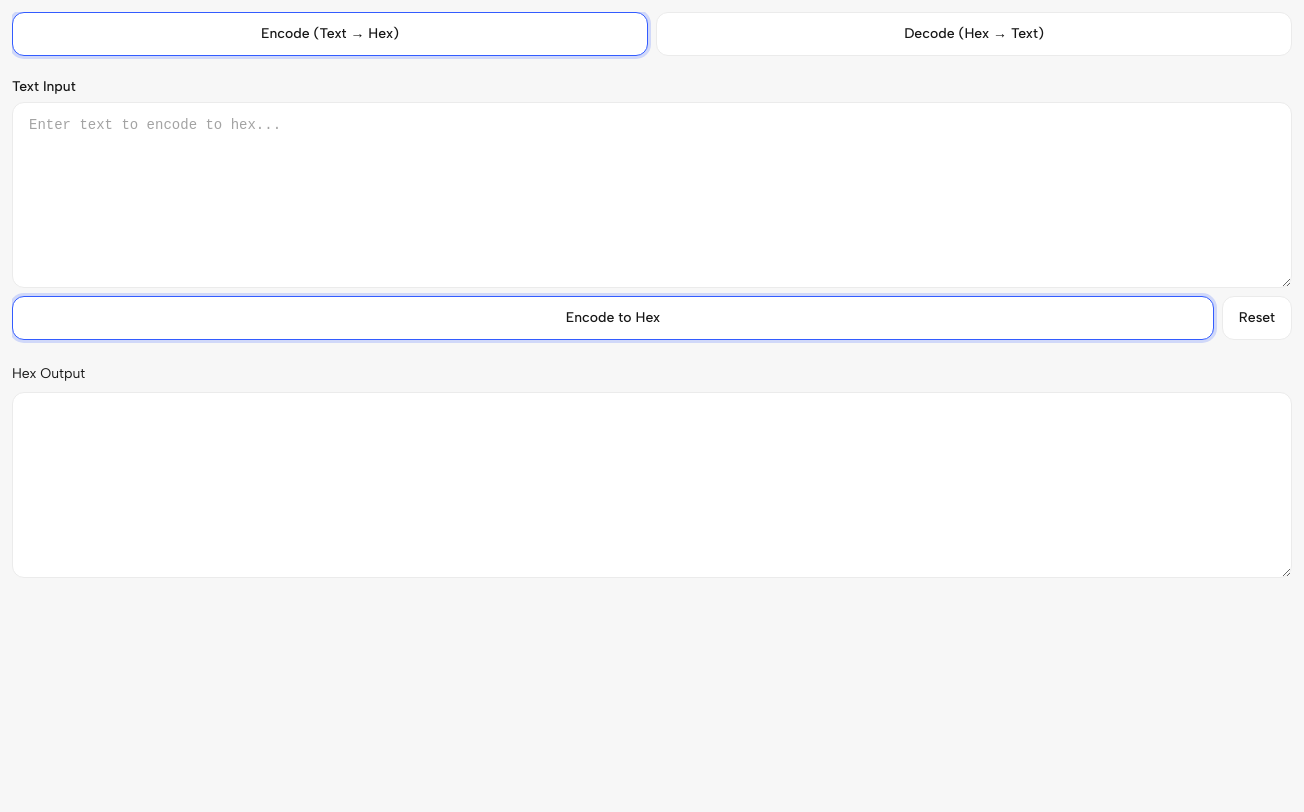
Test: HexTextTool › encodes text with special characters
Type "Hello, World!" into the text box with placeholder "Enter text to encode to hex...".
click(652, 195); type("Hello, World!")  # box [12,102,1292,288]
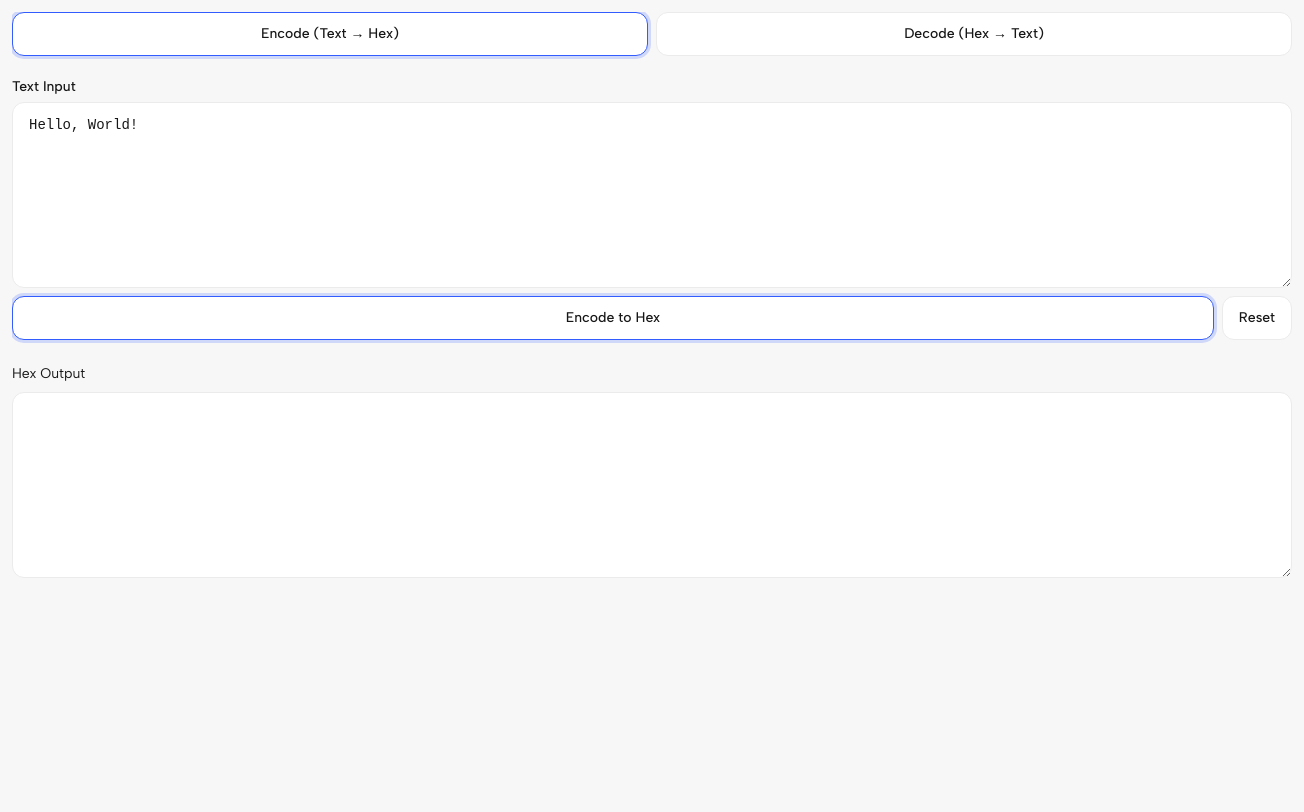
Click the button "Encode to Hex".
click(613, 318)  # box [12,296,1214,340]
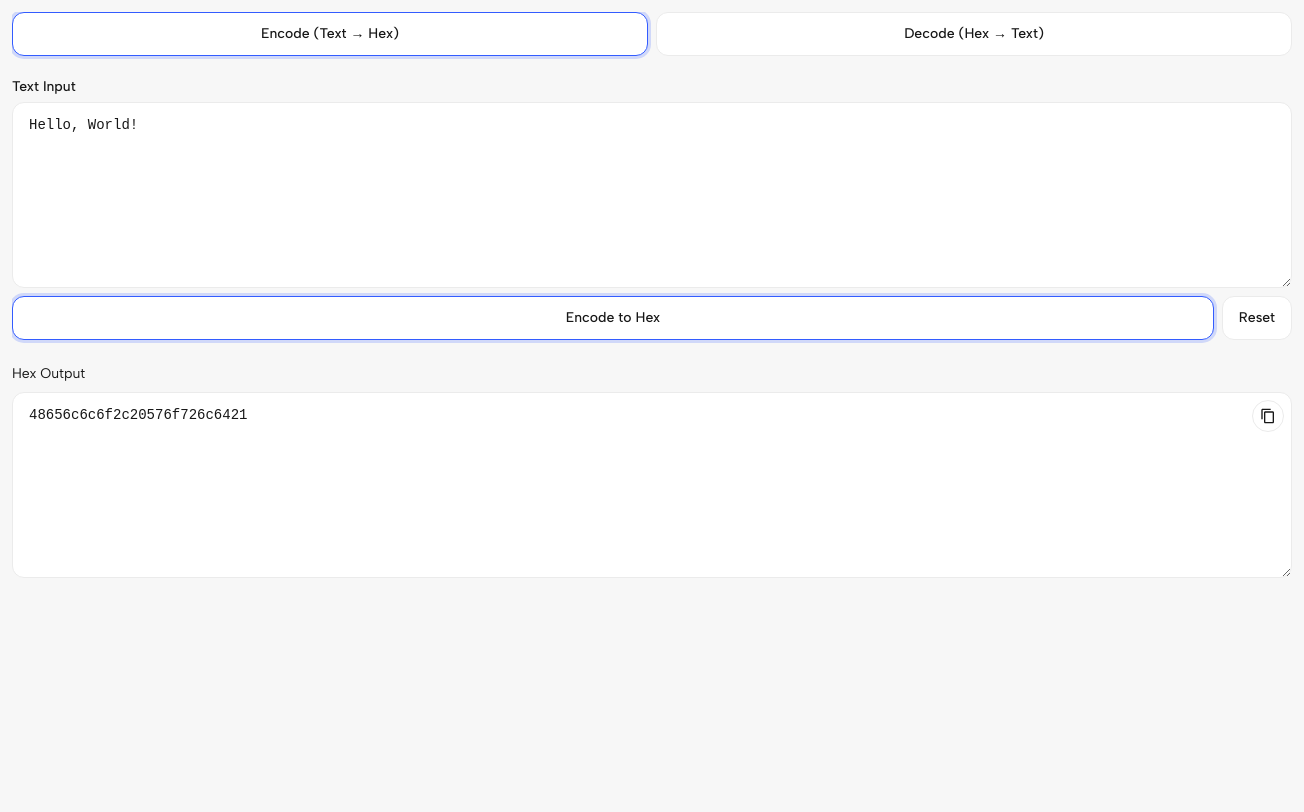
Expected: the text box below "Hex Output" holds "48656c6c6f2c20576f726c6421", [12,392,1292,578]
